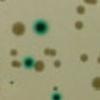Blue_green: (32, 19, 50, 36), (23, 56, 35, 70), (50, 91, 64, 100)
brown: (11, 21, 26, 37), (90, 75, 100, 94), (34, 57, 44, 72), (42, 48, 57, 57), (74, 4, 85, 16), (74, 20, 84, 32), (79, 52, 88, 64), (10, 59, 20, 69), (9, 47, 18, 58), (82, 0, 98, 6), (53, 59, 62, 68), (95, 54, 100, 65), (8, 80, 16, 86), (52, 85, 59, 91)
